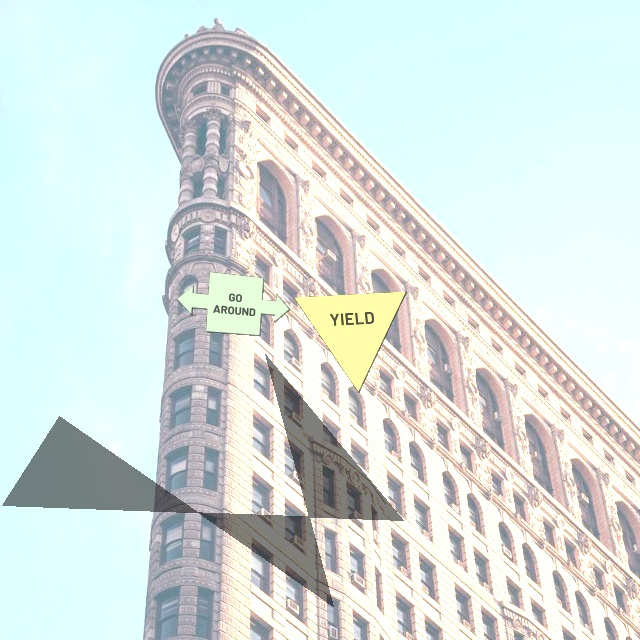GO_AROUND: (176, 271, 290, 336)
YIELD: (293, 291, 407, 393)
